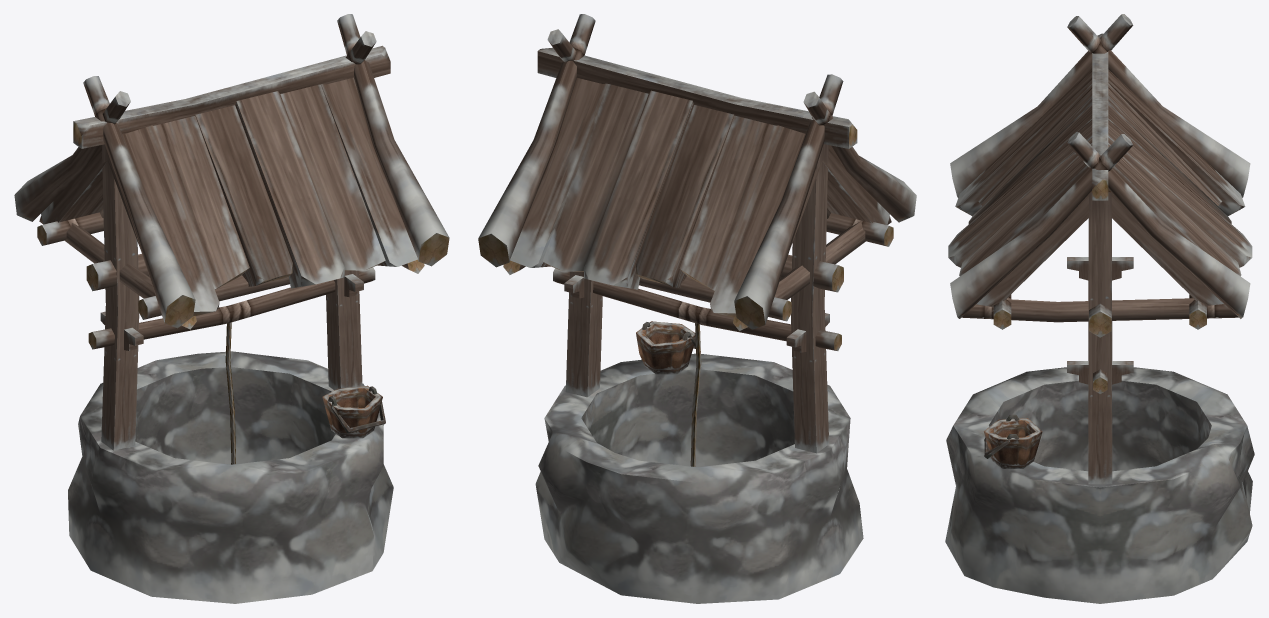
File: snow_b_r03.fbx
3 renders of one model, left to right at view 1: azimuth 30°, elevation 25°; view 2: azimuth 150°, elevation 25°; view 3: azimuth 270°, elevation 25°, orthographic. The views are drawn at different scales.
Visible parts, largest first — view 1: snow_b_r03; view 2: snow_b_r03; view 3: snow_b_r03.
Boxes of the visible parts, box(x1,y1,x2,y2) form: snow_b_r03: box(14, 14, 449, 603); snow_b_r03: box(478, 14, 916, 603); snow_b_r03: box(945, 14, 1254, 603).
Bounding box in the file's own units: 341 × 510 × 305.
